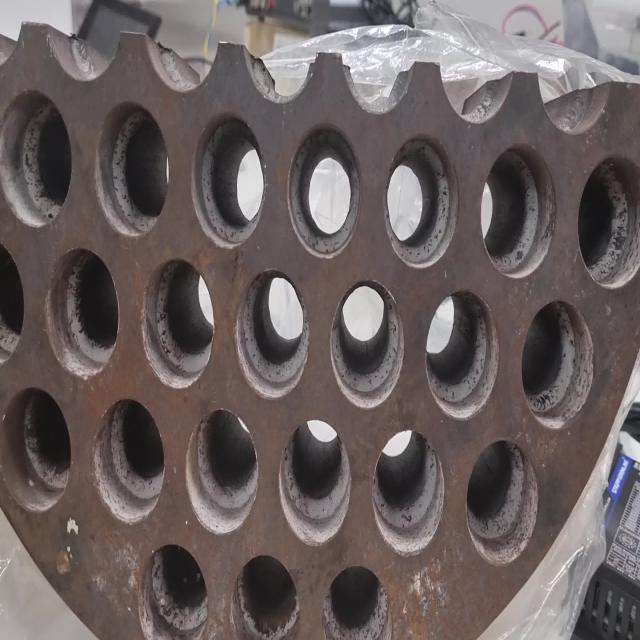Hole: (479, 143, 556, 278), (191, 111, 265, 248), (94, 100, 168, 237), (234, 267, 310, 400), (140, 257, 215, 391), (44, 246, 119, 380), (424, 287, 500, 419), (329, 278, 405, 409), (384, 134, 458, 268), (1, 90, 72, 228), (288, 122, 360, 258), (520, 298, 594, 429), (184, 408, 258, 536), (278, 419, 352, 547), (92, 396, 165, 524), (466, 438, 539, 566), (372, 428, 444, 557), (1, 386, 72, 512), (577, 152, 640, 289), (138, 542, 208, 640), (230, 552, 300, 640), (322, 564, 392, 640), (0, 240, 24, 367)
